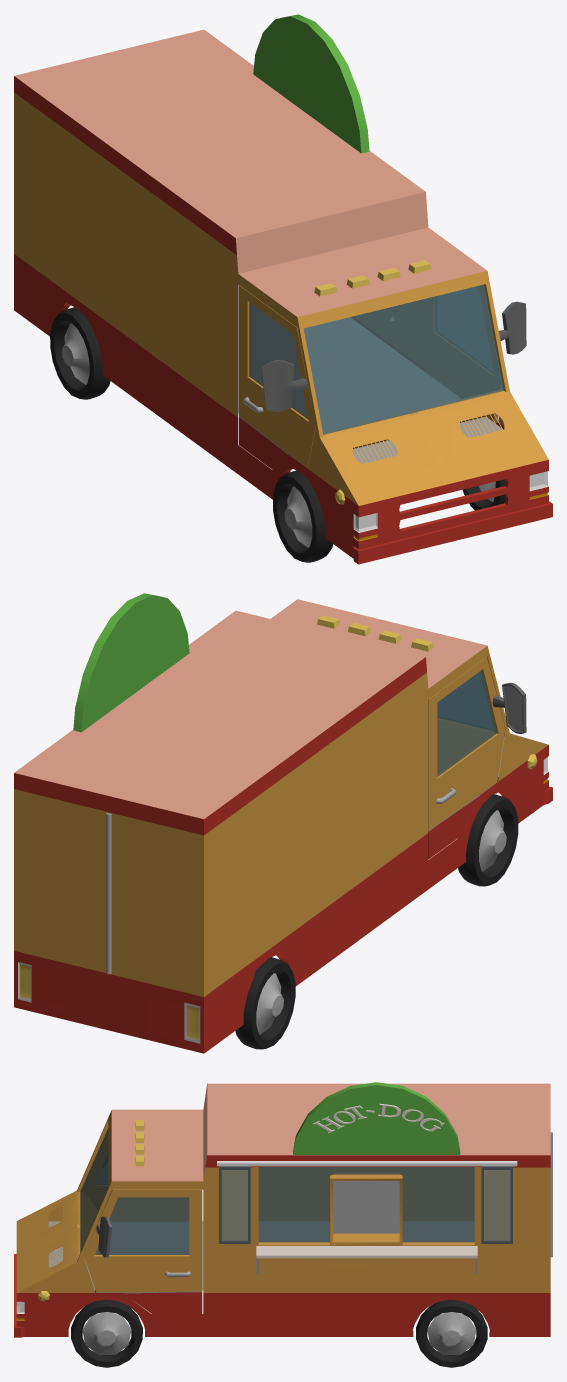
File: HOTDOG.fbx
3 views of the same model, one above another, from view 1: azimuth 30°, elevation 25°; view 2: azimuth 150°, elevation 25°; view 3: azimuth 270°, elevation 25° (orthographic). The views are drawn at different scales.
Parts seen in each view (by area): view 1: polySurface80; view 2: polySurface80; view 3: polySurface80.
Boxes of the visible parts, <box> form: polySurface80: <box>14,14,552,564</box>; polySurface80: <box>14,593,552,1053</box>; polySurface80: <box>14,1082,552,1367</box>.
Bounding box in the file's own units: 2.78 × 3.66 × 6.34.
